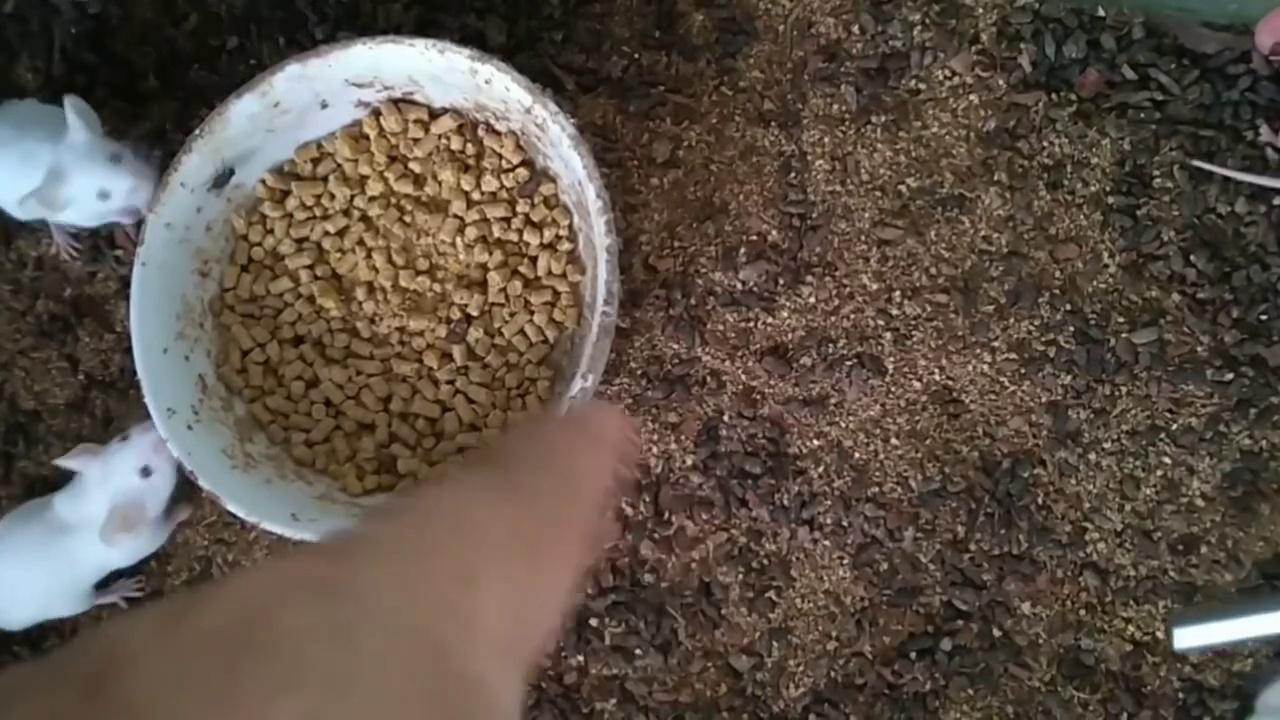rat: (0, 418, 196, 630), (0, 96, 158, 264)
